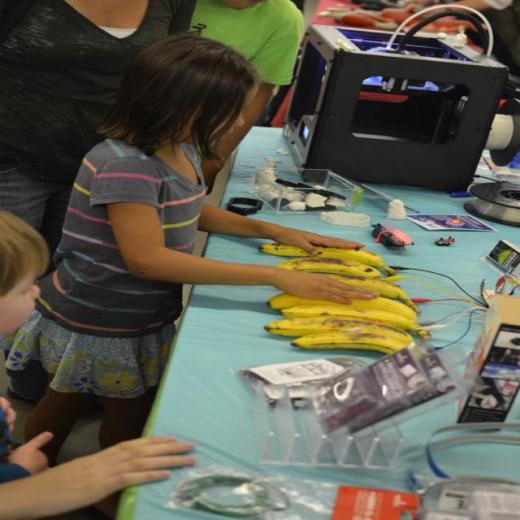Banana: (236, 234, 424, 356)
